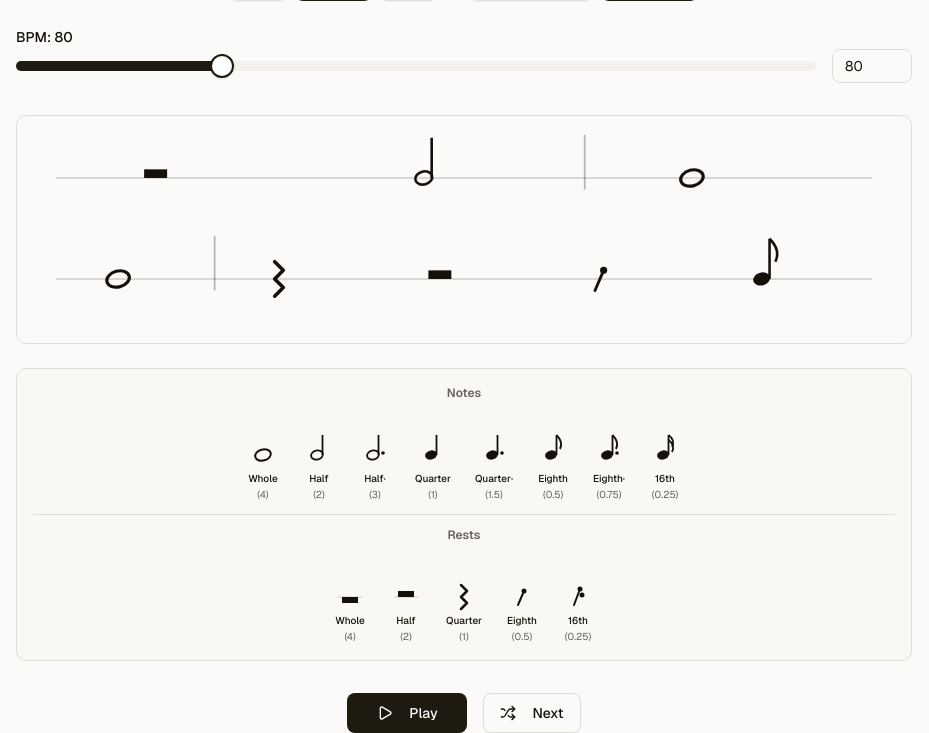
Test case: RhythmTrainer › toggles play button text between Play and Pause
The width and height of the screenshot is (929, 733).
(page scrolled)
Click the button with test id "play-btn": (407, 713) [347,693,467,732]
(page scrolled)
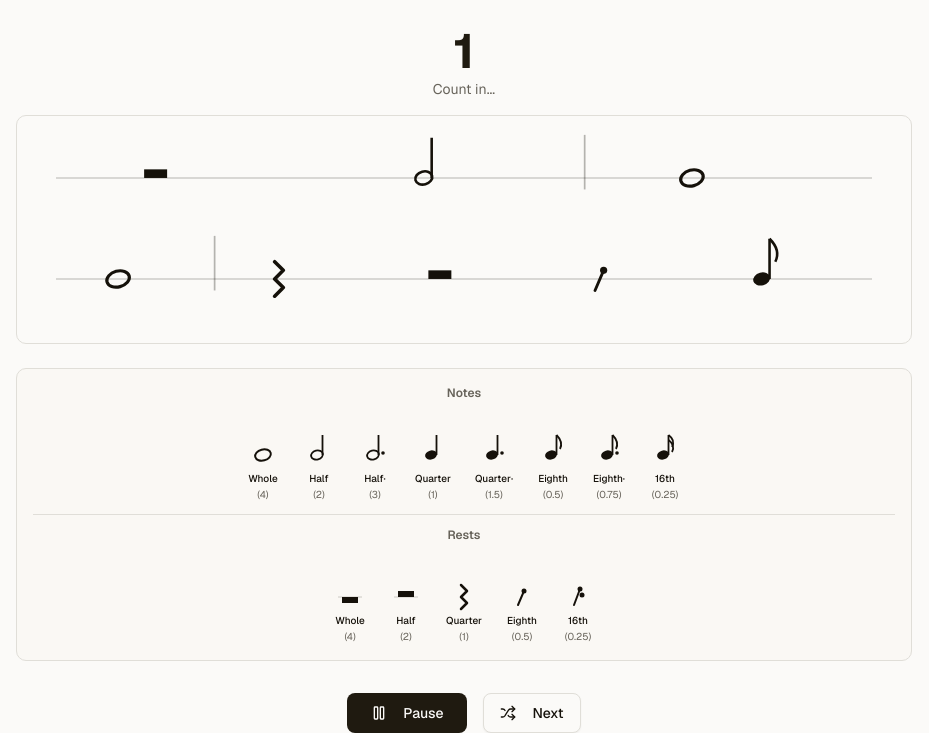
Result: the button with test id "play-btn" reads "Pause"
Click the button with test id "play-btn": (407, 713) [347,693,467,732]
(page scrolled)
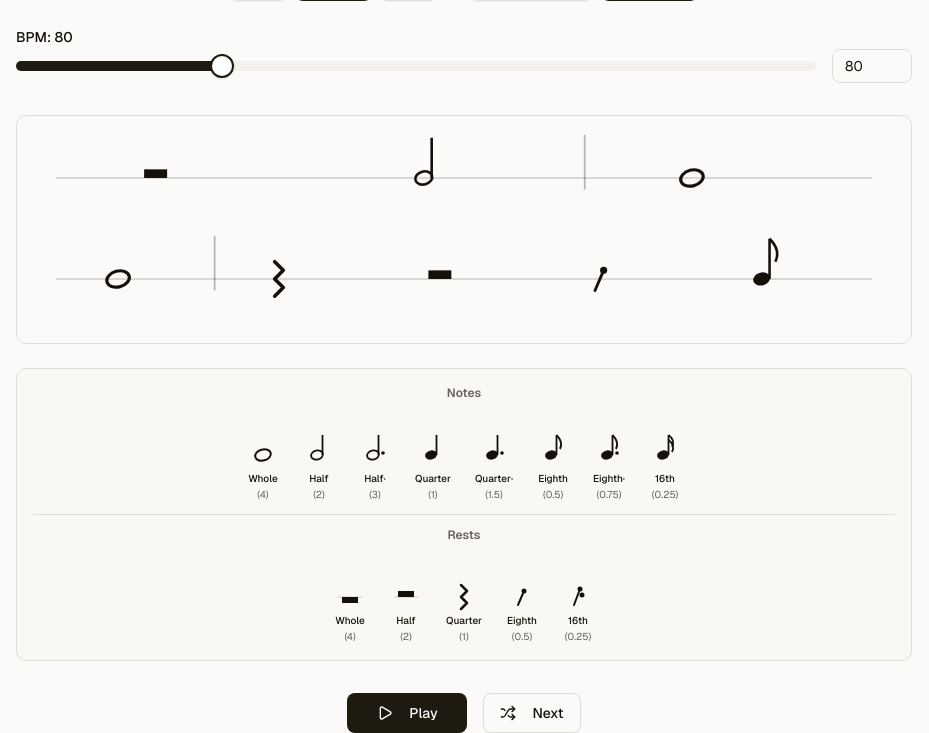
Result: the button with test id "play-btn" reads "Play" at [347,693,467,732]
